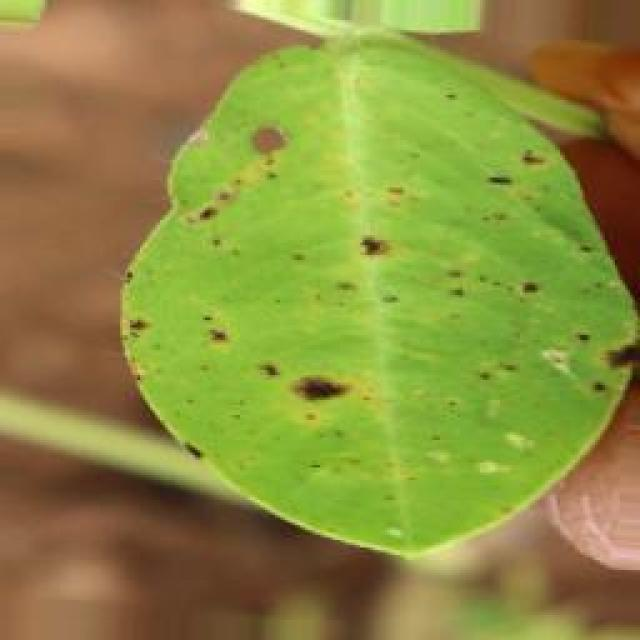Yellowish: (120, 73, 640, 515)
